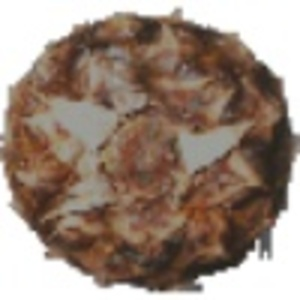abacaxi: (6, 8, 293, 271)
